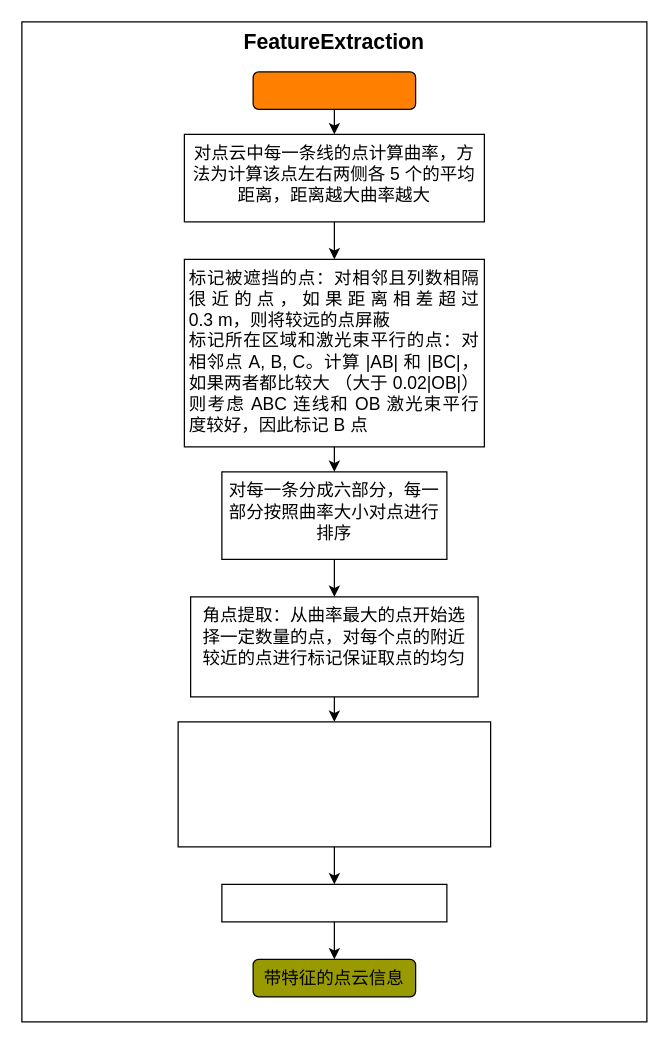
This 669x1044 diagram has some shape labels left out. The shapes that lost their labels are listed below. From the top down, each one's centre as x and y in pixels, then its label:
the point at 334,90: 去畸变后的点云信息
the point at 334,784: 平面点提取：从曲率最小的点开始选择所有满足条件的点，对每个点的附近较近的点进行标记保证取点的均匀，选完后对平面点点云进行下采样控制点云规模
the point at 334,902: 发布带特征的点云信息
